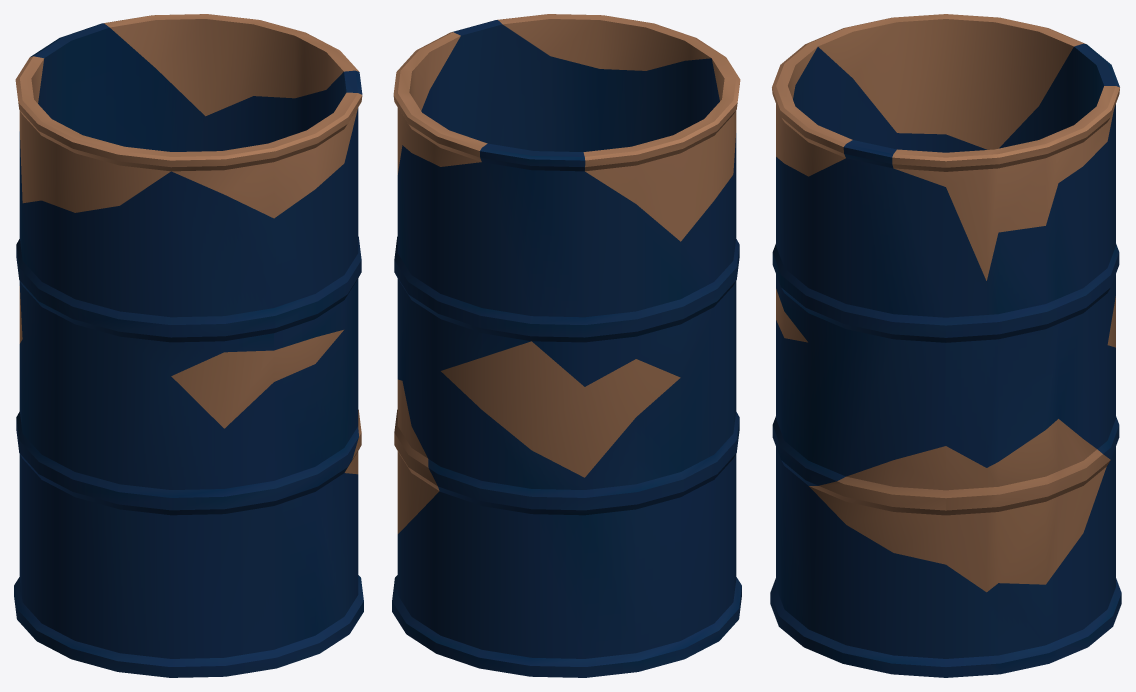
The model's file is Barrel.glb.
3 views of the same model, side by side, from view 1: azimuth 30°, elevation 25°; view 2: azimuth 150°, elevation 25°; view 3: azimuth 270°, elevation 25° (orthographic).
Visible parts, largest first — view 1: Barrel; view 2: Barrel; view 3: Barrel.
Part boxes in pixels (x1,y1,x2,y2): Barrel: (14, 14, 363, 677); Barrel: (392, 14, 741, 677); Barrel: (770, 14, 1121, 677).
Size of the model in its own units: 0.7041 by 1.14 by 0.7041.
